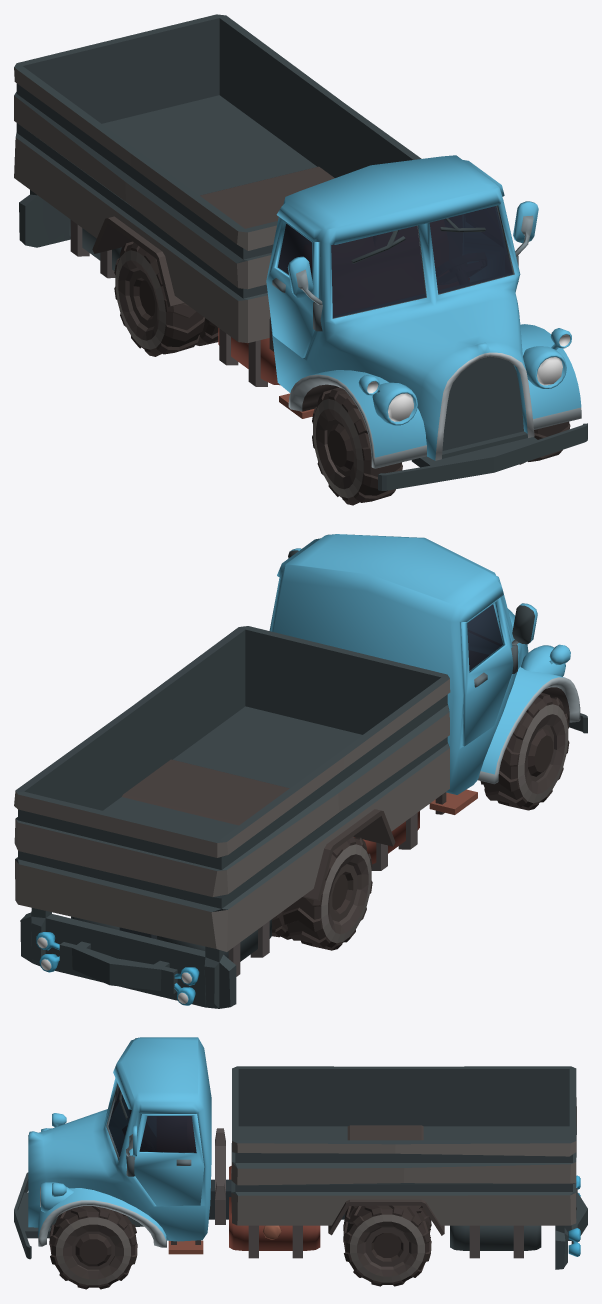
The model's file is truck.fbx.
3 renders of one model, top to bottom at view 1: azimuth 30°, elevation 25°; view 2: azimuth 150°, elevation 25°; view 3: azimuth 270°, elevation 25°, orthographic. The views are drawn at different scales.
Visible parts, largest first — view 1: Truck_Trailer2, Truck_body, Truck_Engine, Truck_Wheel_Back, Truck_Wheel_Front.right, Truck_WheelCover, Truck_Door.right, Truck_Bumper, TruckModule_OilTank, TruckModule_Laggage; view 2: Truck_Trailer2, Truck_body, Truck_Bumper, Truck_WheelCover, Truck_Wheel_Back, Truck_Wheel_Front.right, Truck_Door.right, TruckModule_Laggage, TruckModule_OilTank; view 3: Truck_Trailer2, Truck_body, Truck_Wheel_Back, Truck_Wheel_Front.left, Truck_Door.left, TruckModule_OilTank, TruckModule_Laggage, Truck_WheelCover, Truck_Chassy_Short, Truck_Bumper, Truck_Engine.
Boxes of the visible parts, x1=… form: Truck_Trailer2: x1=14, y1=14, x2=421, y2=342; Truck_body: x1=270, y1=155, x2=581, y2=468; Truck_Engine: x1=378, y1=356, x2=587, y2=490; Truck_Wheel_Back: x1=114, y1=241, x2=218, y2=356; Truck_Wheel_Front.right: x1=312, y1=387, x2=402, y2=505; Truck_WheelCover: x1=92, y1=166, x2=334, y2=307; Truck_Door.right: x1=266, y1=217, x2=318, y2=358; Truck_Bumper: x1=19, y1=190, x2=70, y2=247; TruckModule_OilTank: x1=218, y1=328, x2=280, y2=386; TruckModule_Laggage: x1=69, y1=219, x2=121, y2=278; Truck_Trailer2: x1=14, y1=626, x2=450, y2=951; Truck_body: x1=270, y1=534, x2=580, y2=814; Truck_Bumper: x1=20, y1=908, x2=236, y2=1008; Truck_WheelCover: x1=122, y1=759, x2=395, y2=901; Truck_Wheel_Back: x1=272, y1=836, x2=372, y2=950; Truck_Wheel_Front.right: x1=480, y1=692, x2=569, y2=810; Truck_Door.right: x1=461, y1=597, x2=513, y2=746; TruckModule_Laggage: x1=71, y1=916, x2=271, y2=976; TruckModule_OilTank: x1=354, y1=811, x2=419, y2=870; Truck_Trailer2: x1=231, y1=1066, x2=576, y2=1225; Truck_body: x1=28, y1=1037, x2=211, y2=1254; Truck_Wheel_Back: x1=343, y1=1205, x2=431, y2=1286; Truck_Wheel_Front.left: x1=49, y1=1206, x2=137, y2=1289; Truck_Door.left: x1=132, y1=1114, x2=204, y2=1206; TruckModule_OilTank: x1=229, y1=1166, x2=320, y2=1258; TruckModule_Laggage: x1=450, y1=1225, x2=541, y2=1258; Truck_WheelCover: x1=328, y1=1125, x2=444, y2=1235; Truck_Chassy_Short: x1=209, y1=1128, x2=345, y2=1224; Truck_Bumper: x1=555, y1=1175, x2=587, y2=1269; Truck_Engine: x1=14, y1=1172, x2=143, y2=1259.
Size of the model in its own units: 506 by 511 by 1364.
